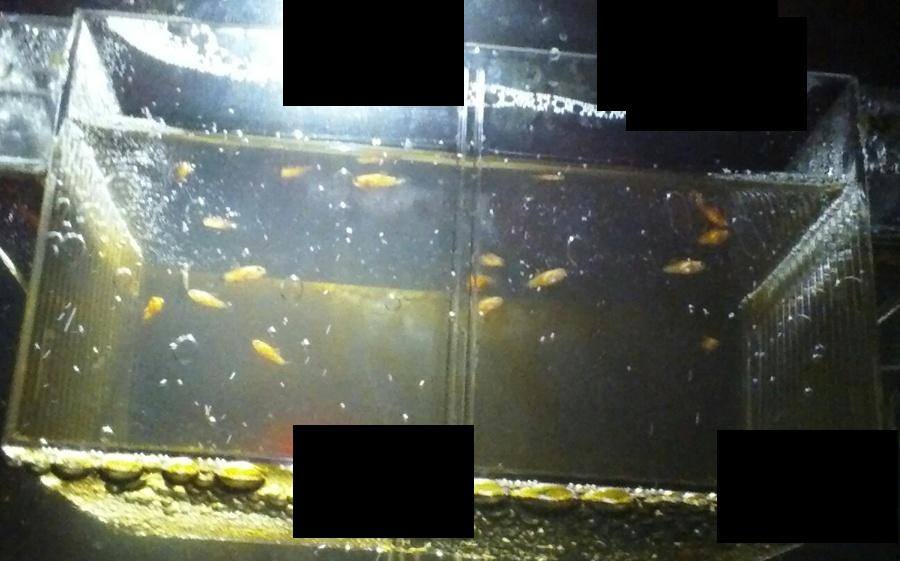fish: (349, 167, 409, 199), (133, 286, 168, 336), (247, 338, 296, 373), (181, 284, 230, 319), (520, 265, 574, 293), (221, 261, 271, 291), (660, 258, 710, 283)
